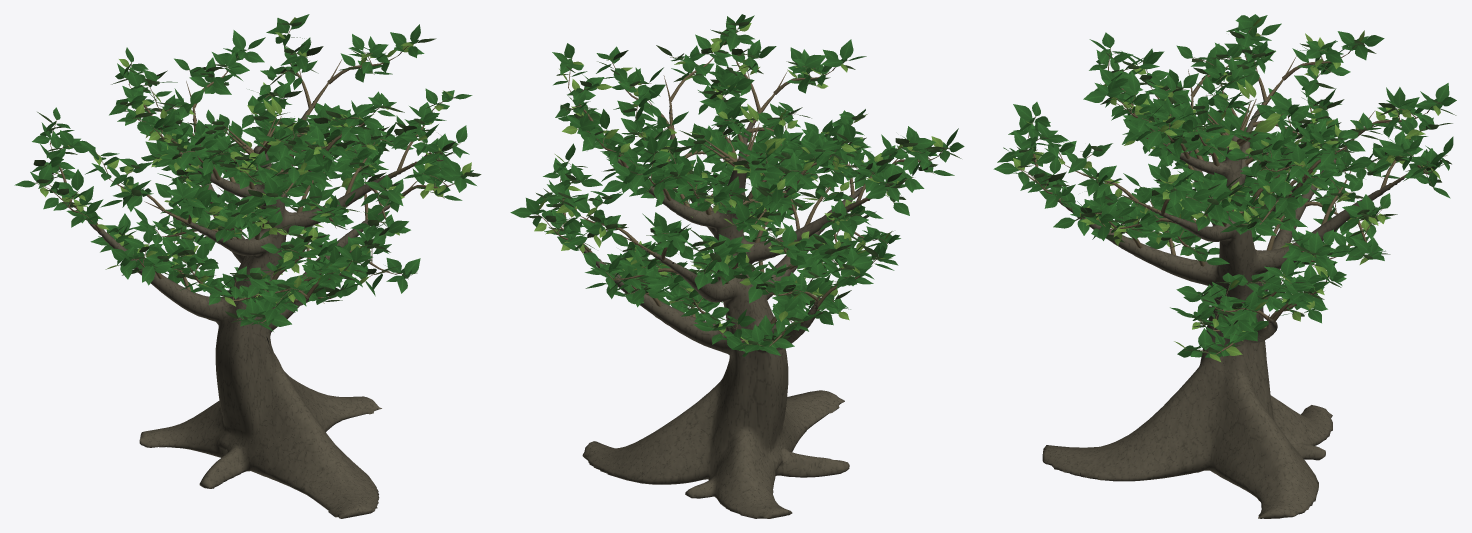
The model's file is anime_jrpg_buttress_camphor_tree_GAME.glb.
3 renders of one model, left to right at view 1: azimuth 30°, elevation 25°; view 2: azimuth 150°, elevation 25°; view 3: azimuth 270°, elevation 25°, orthographic. The views are drawn at different scales.
Parts seen in each view (by area): view 1: anime_jrpg_buttress_camphor_tree_GAME; view 2: anime_jrpg_buttress_camphor_tree_GAME; view 3: anime_jrpg_buttress_camphor_tree_GAME.
Part boxes in pixels (x1,y1,x2,y2): anime_jrpg_buttress_camphor_tree_GAME: [14, 14, 481, 518]; anime_jrpg_buttress_camphor_tree_GAME: [510, 14, 964, 518]; anime_jrpg_buttress_camphor_tree_GAME: [993, 14, 1456, 518].
Bounding box in the file's own units: 6.13 × 5.66 × 5.91.
Materials: 2 (2 with a texture image).
